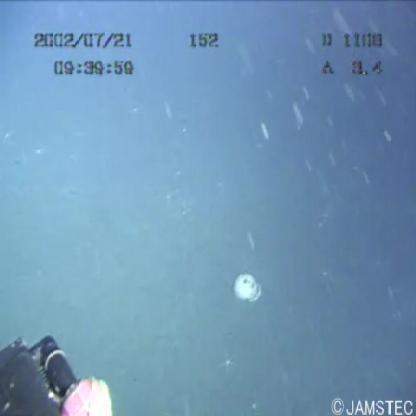Rov: (1, 334, 113, 416)
Rác: (216, 255, 275, 305)
